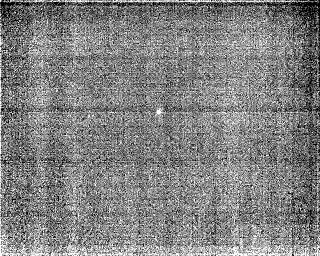BIRD: (153, 105, 166, 120)
